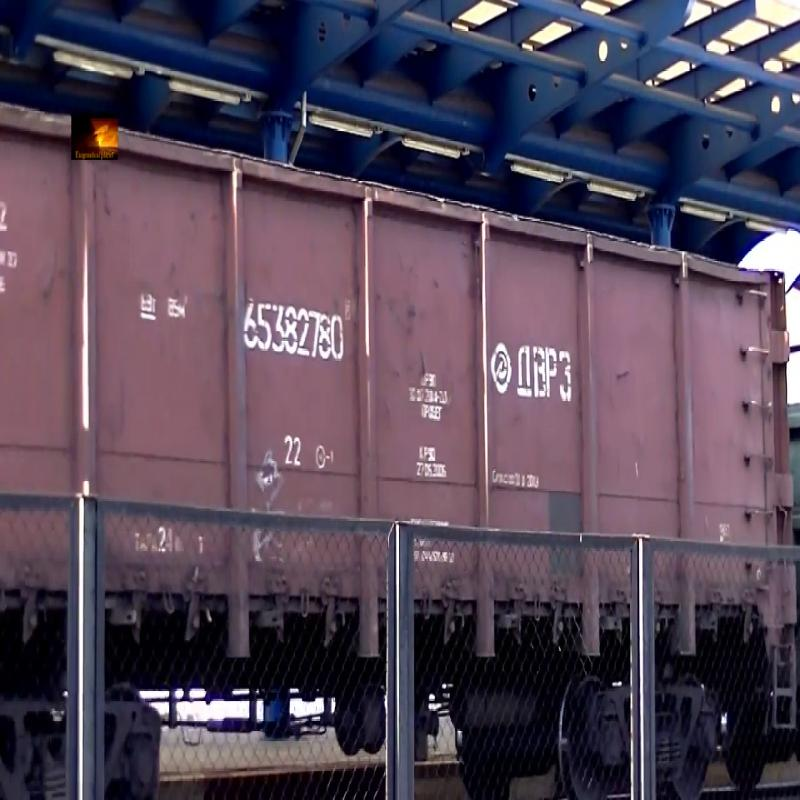train: (5, 47, 800, 775)
